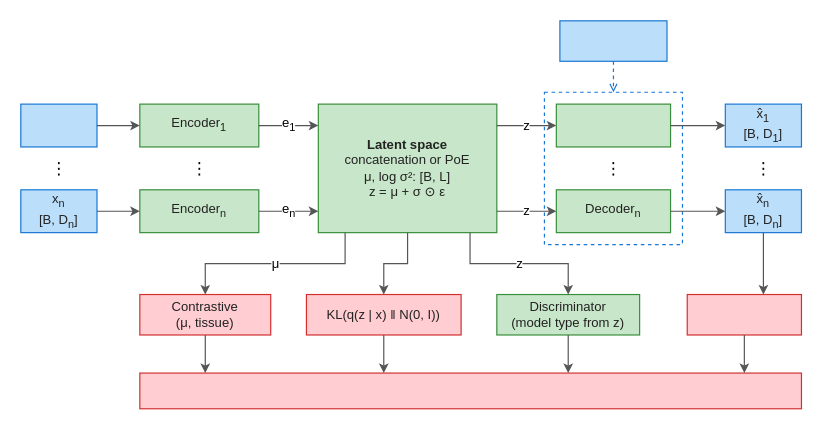
Image size: 822x430. Some labels were removed from this diagram. The shapes that lost their labels are listed below. From the top down, each one's centre as x and y in pixels, then its label:
the point at 613,40: Conditionals [B, C]
the point at 58,125: x 1 [B, D 1 ]
the point at 613,125: Decoder 1
the point at 743,314: Masked MSE per view
the point at 470,390: Total loss = L rec + β L KL + λ c L con − λ a L adv
